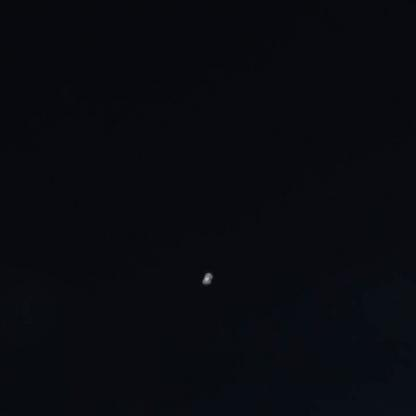ball: (196, 266, 218, 290)
